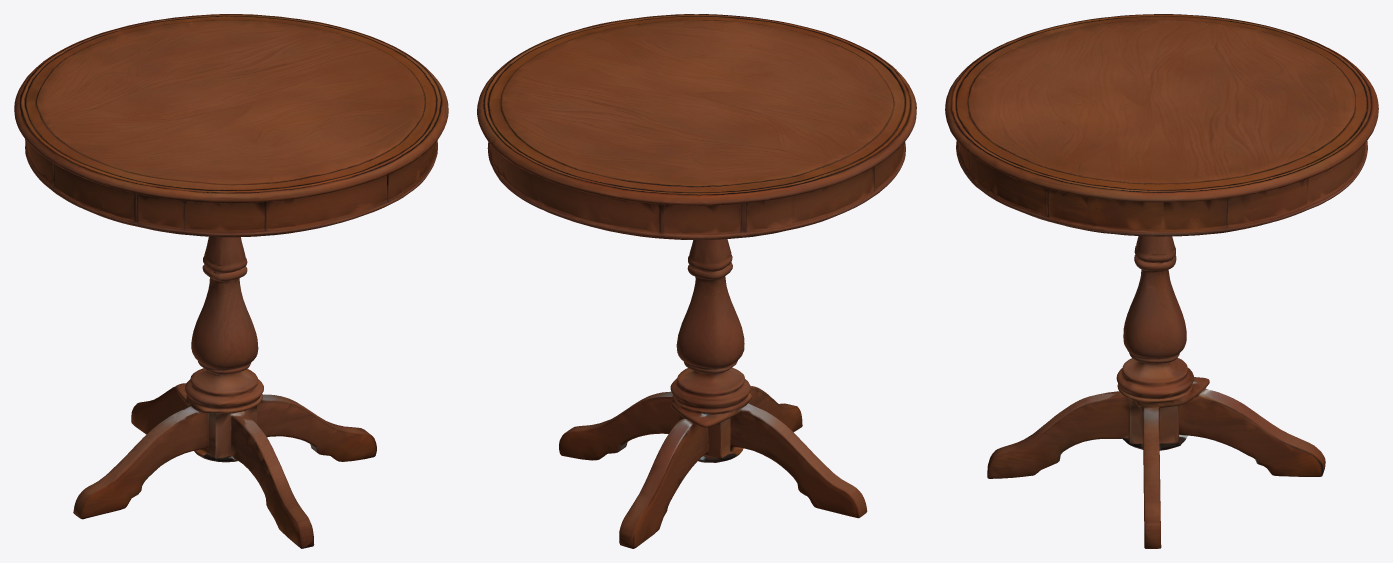
File: roundtable-tripo.glb
3 views of the same model, side by side, from view 1: azimuth 30°, elevation 25°; view 2: azimuth 150°, elevation 25°; view 3: azimuth 270°, elevation 25° (orthographic).
Parts seen in each view (by area): view 1: tripo_node_0e5f8d3a-d76a-4636-882f-1819ce17aff8; view 2: tripo_node_0e5f8d3a-d76a-4636-882f-1819ce17aff8; view 3: tripo_node_0e5f8d3a-d76a-4636-882f-1819ce17aff8.
Part boxes in pixels (<box>): tripo_node_0e5f8d3a-d76a-4636-882f-1819ce17aff8: <box>14,14,448,548</box>; tripo_node_0e5f8d3a-d76a-4636-882f-1819ce17aff8: <box>477,14,916,548</box>; tripo_node_0e5f8d3a-d76a-4636-882f-1819ce17aff8: <box>945,14,1378,548</box>.
Size of the model in its own units: 1 by 0.9721 by 1.
Materials: 1 (1 with a texture image).
